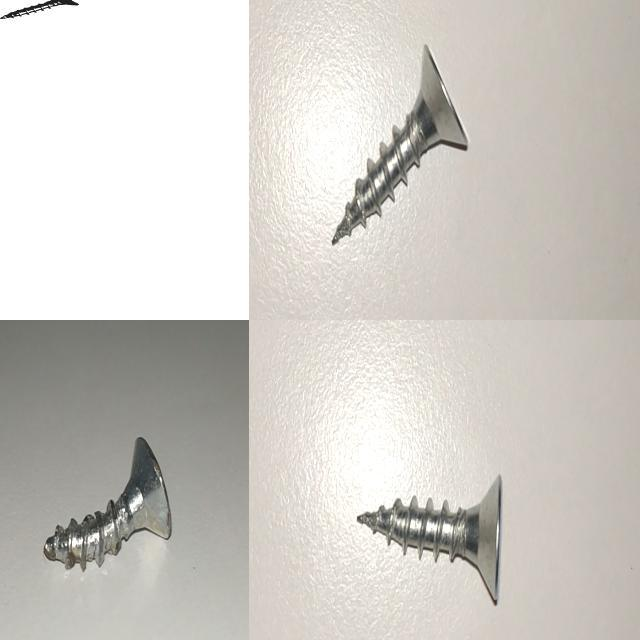Screw: (332, 43, 469, 244), (357, 475, 502, 603), (43, 436, 171, 569), (1, 0, 81, 19)
